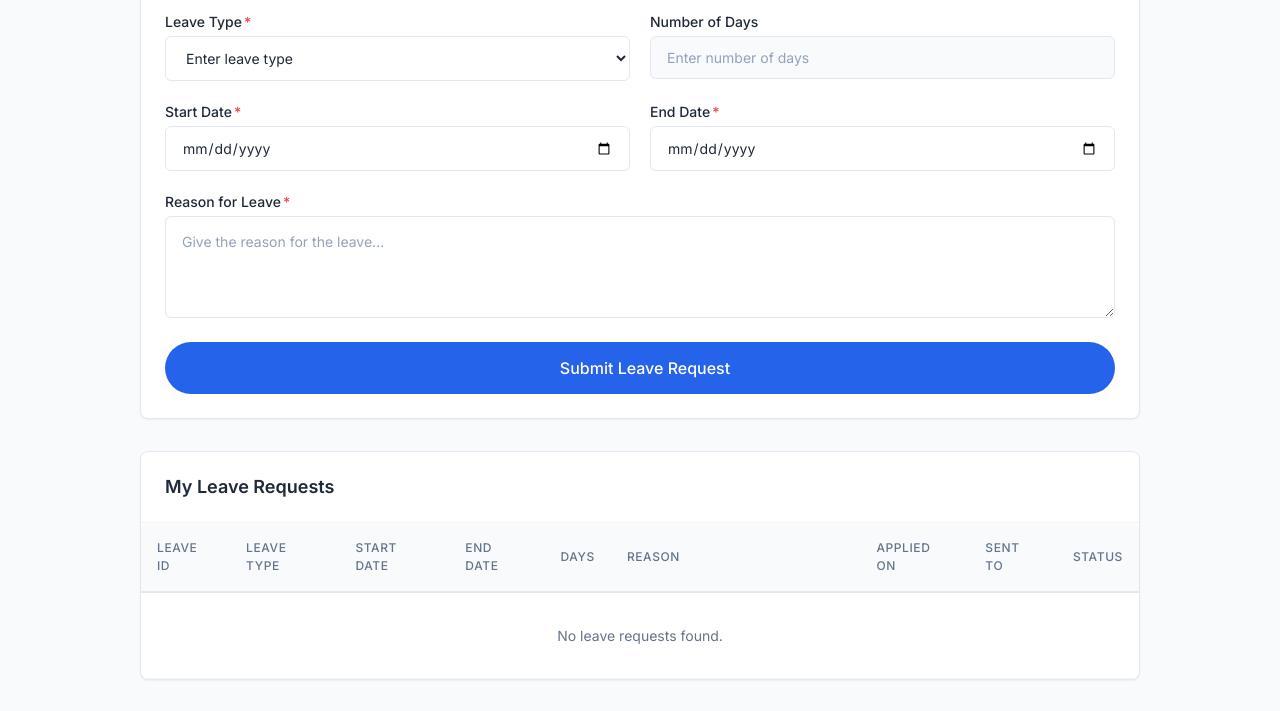
Test case: Leave request form › blocks an empty submit, shows each field error, and focuses the first invalid field
The image size is (1280, 711).
(page scrolled)
Click the button "Submit Leave Request": point(640, 368) [165,342,1115,394]
(page scrolled)
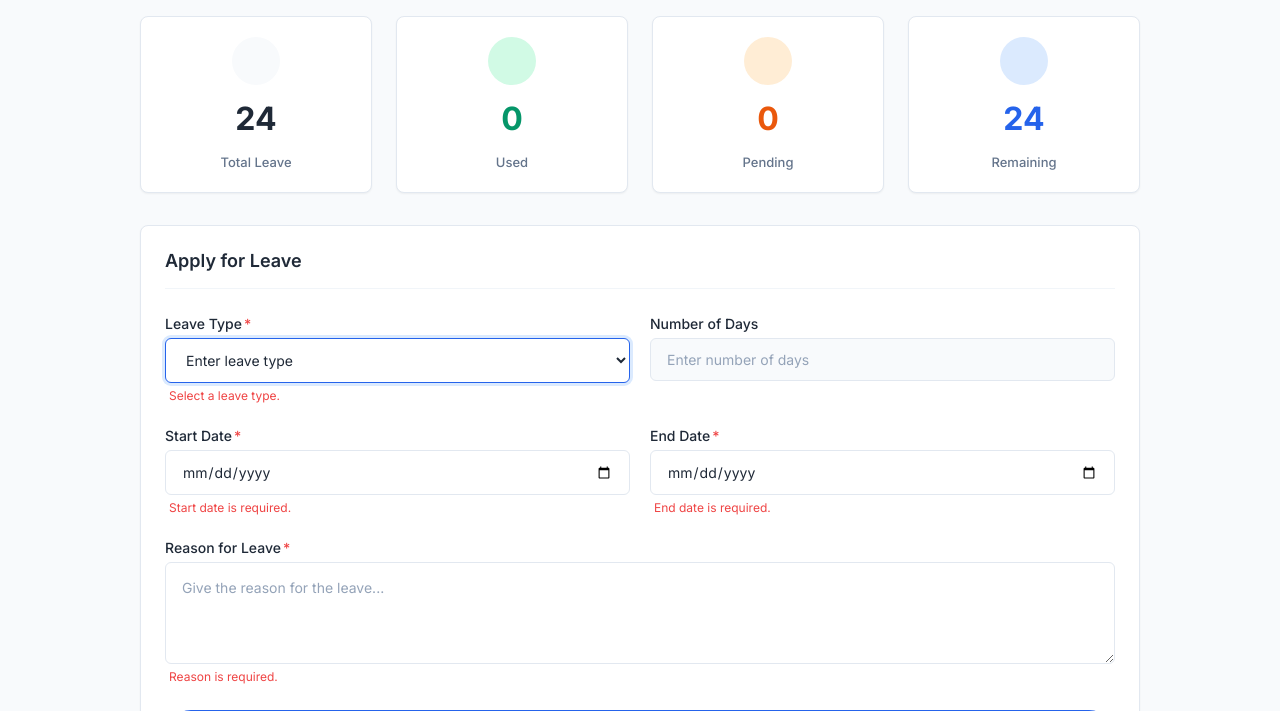
Check: the text "Select a leave type." is shown, box [169,387,280,405]
Check: the text "Start date is required." is shown, box [169,499,291,517]
Check: the text "End date is required." is shown, box [654,499,771,517]
